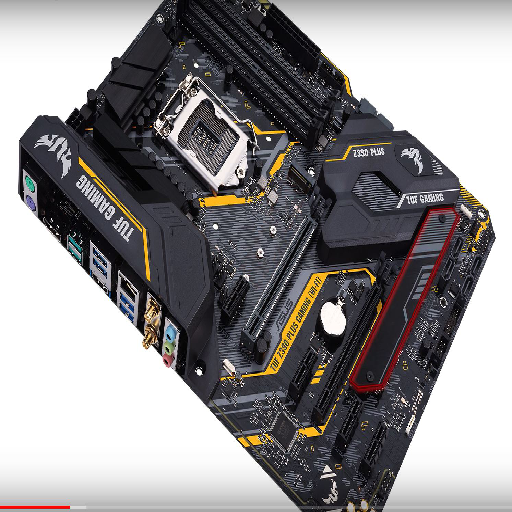CPU: (154, 74, 249, 191)
GPU: (313, 253, 399, 423), (240, 194, 330, 351)
RAM: (178, 1, 337, 150)
SSD: (288, 160, 315, 193)
